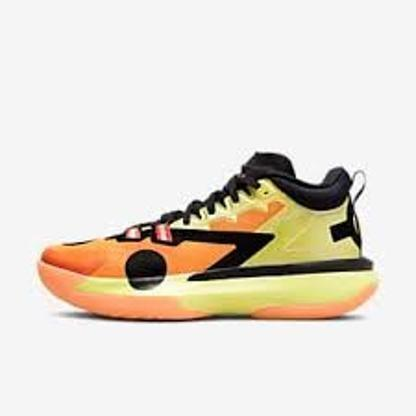not trash: (39, 149, 377, 317)
